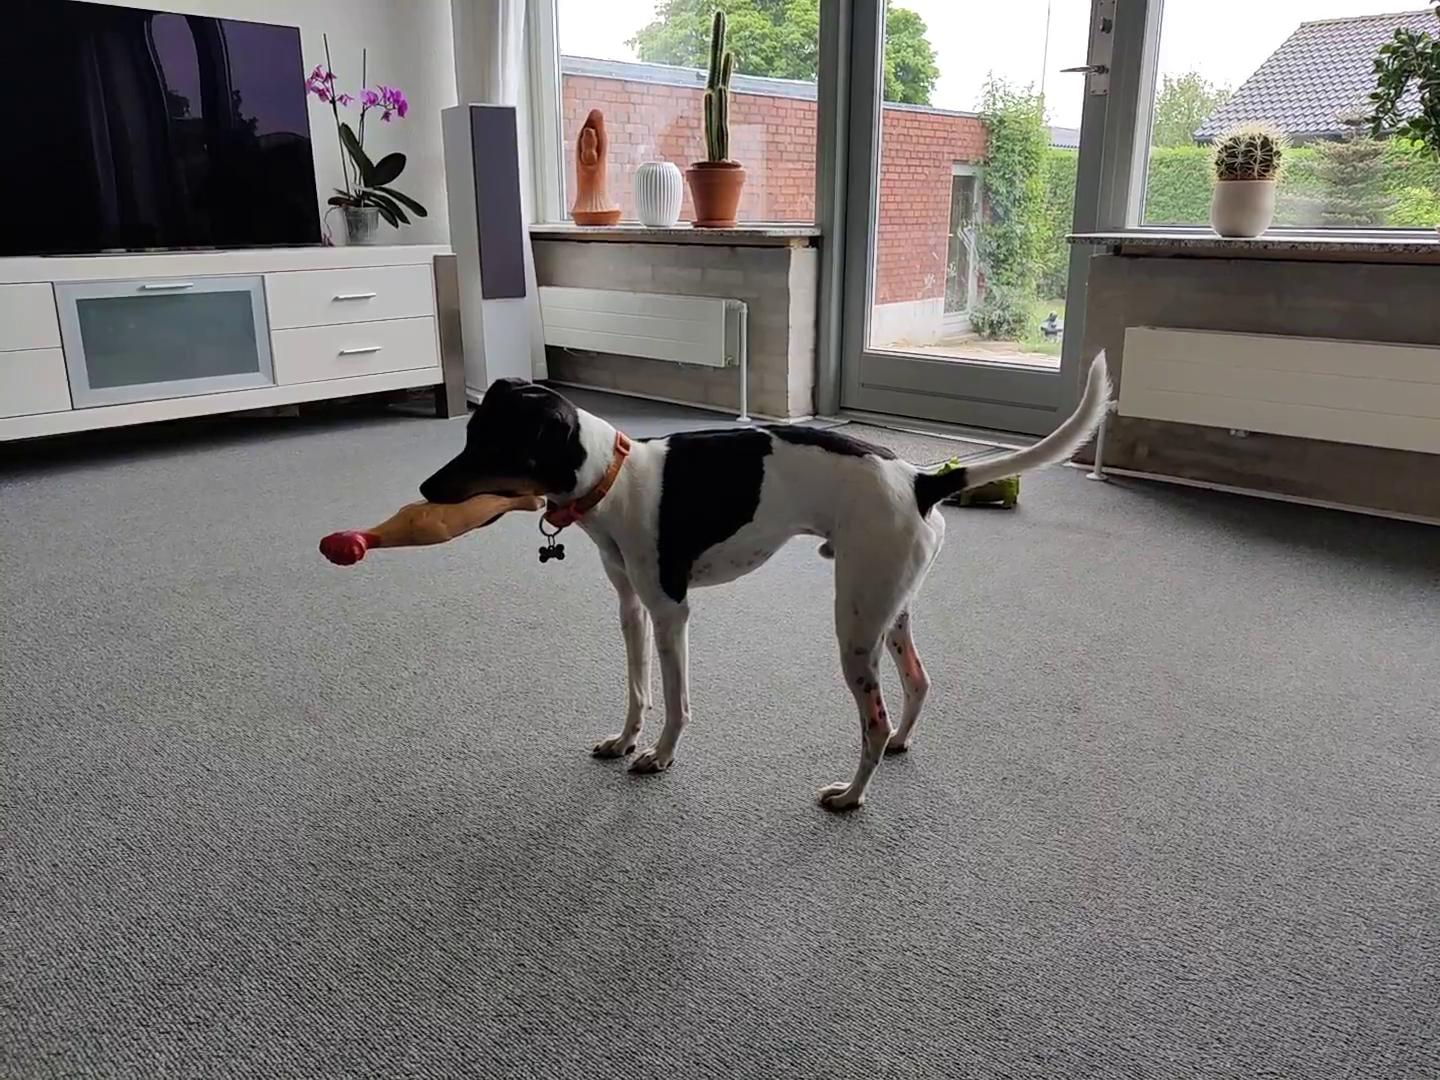Dog: (417, 343, 1119, 816)
